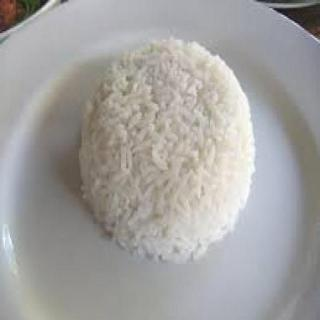Nasi: (77, 35, 258, 264)
